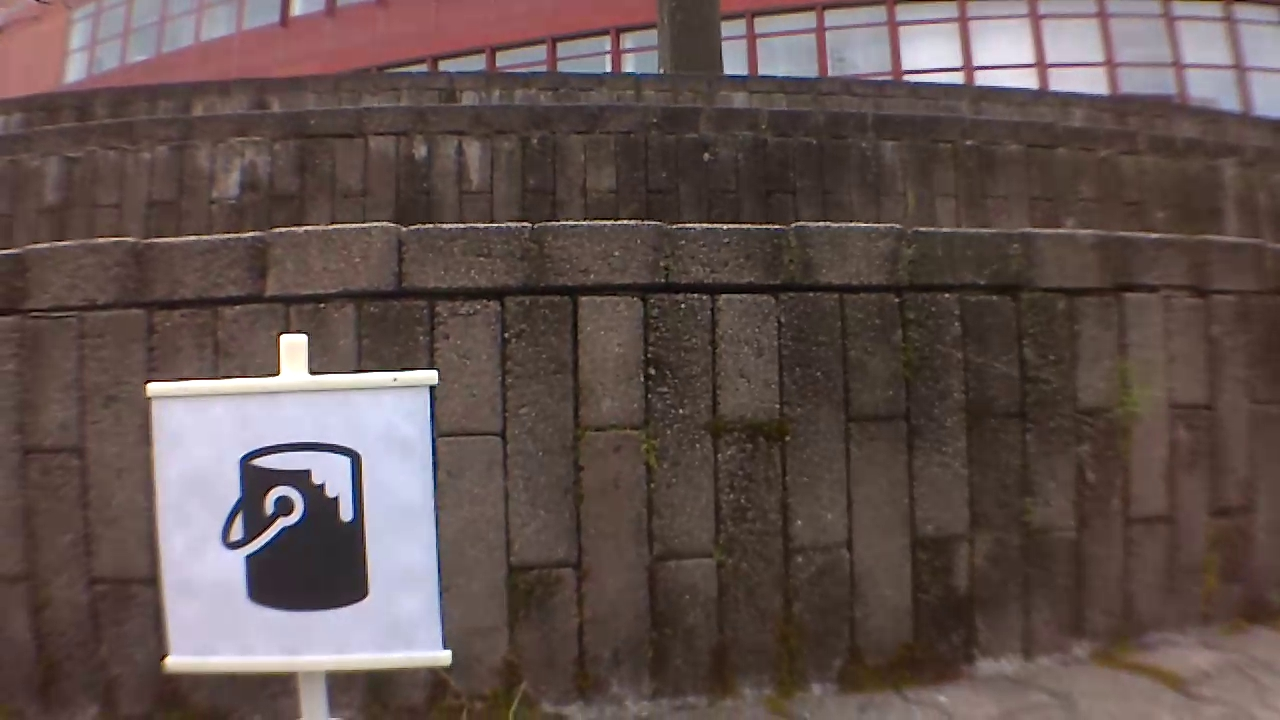bucket: (221, 437, 372, 621)
